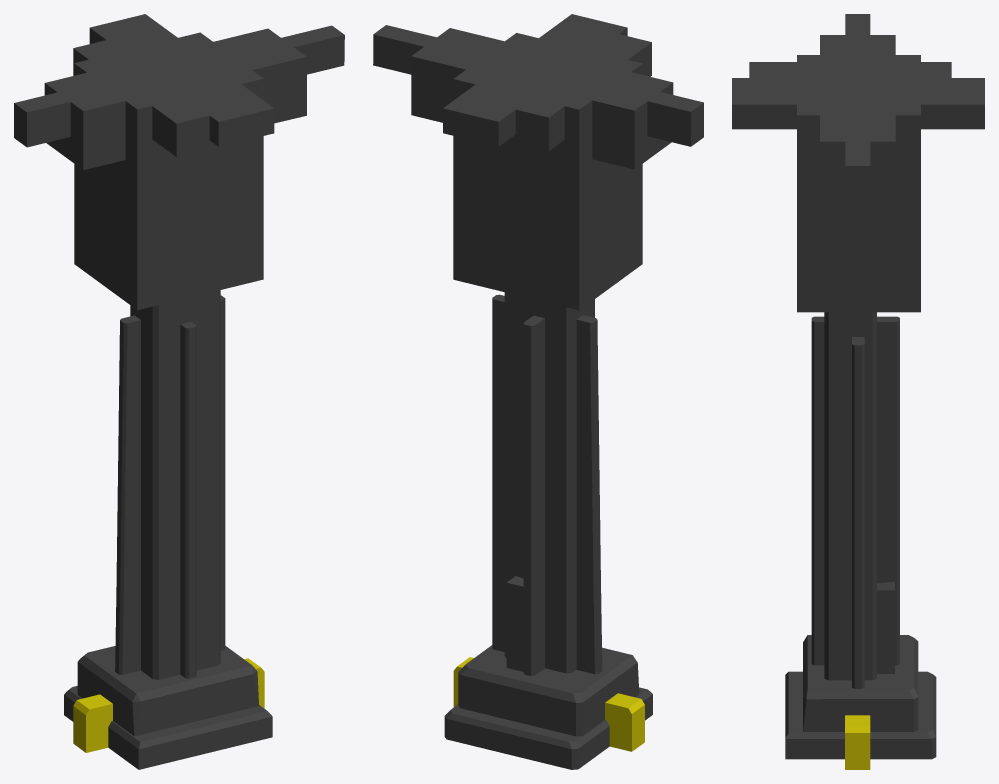
The model's file is temple_pillar raw L.fbx.
The picture shows the model from 3 angles, left to right: view 1: azimuth 30°, elevation 25°; view 2: azimuth 150°, elevation 25°; view 3: azimuth 270°, elevation 25°; orthographic projection.
Parts seen in each view (by area): view 1: pilier_nue; view 2: pilier_nue; view 3: pilier_nue.
Boxes of the visible parts, <box> form: pilier_nue: <box>14,14,344,769</box>; pilier_nue: <box>373,14,703,769</box>; pilier_nue: <box>732,14,984,769</box>.
Bounding box in the file's own units: 84.77 × 167 × 59.58.
